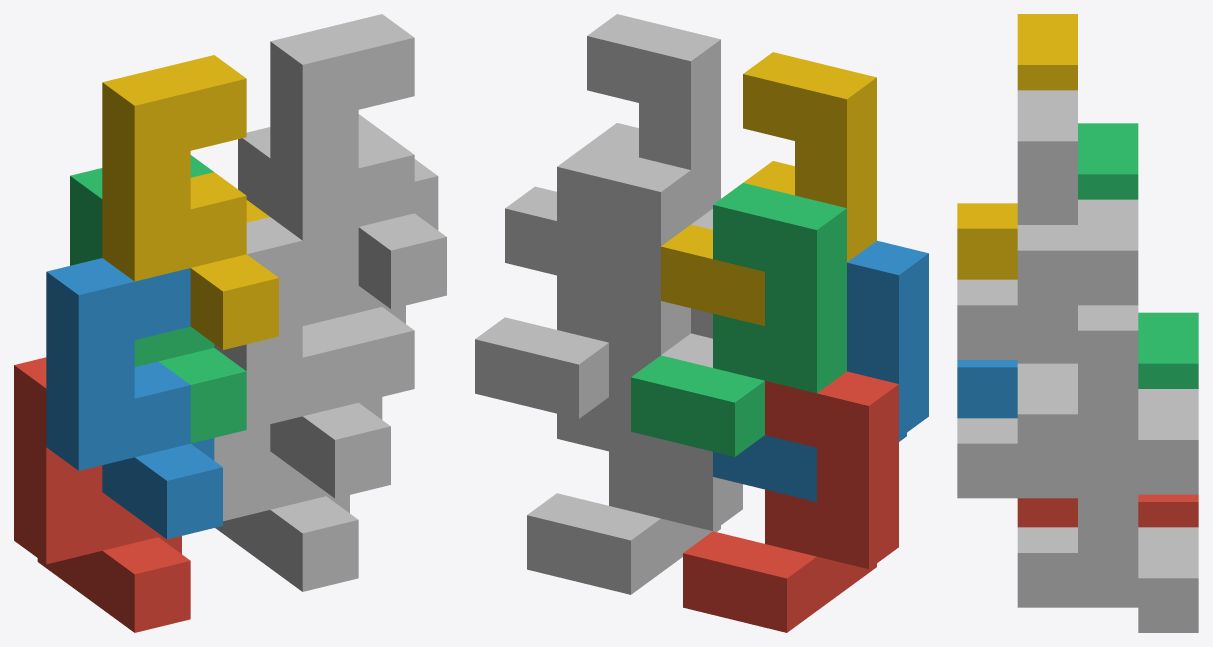
Rendered from tiling.obj.
3 renders of one model, left to right at view 1: azimuth 30°, elevation 25°; view 2: azimuth 150°, elevation 25°; view 3: azimuth 270°, elevation 25°, orthographic. The views are drawn at different scales.
Visible parts, largest first — view 1: copy_1_domain_8, copy_1_domain_4, copy_1_domain_2, copy_1_domain_6, copy_1_domain_1, copy_1_domain_5, copy_1_domain_3, copy_1_domain_7; view 2: copy_1_domain_1, copy_1_domain_3, copy_1_domain_7, copy_1_domain_4, copy_1_domain_8, copy_1_domain_5, copy_1_domain_2, copy_1_domain_6; view 3: copy_1_domain_8, copy_1_domain_7, copy_1_domain_5, copy_1_domain_6, copy_1_domain_3, copy_1_domain_4, copy_1_domain_1, copy_1_domain_2.
Boxes of the visible parts, x1,y1,x2,y2 form: copy_1_domain_8: [270, 14, 446, 308]; copy_1_domain_4: [102, 55, 278, 349]; copy_1_domain_2: [46, 258, 222, 539]; copy_1_domain_6: [214, 217, 390, 498]; copy_1_domain_1: [14, 357, 190, 632]; copy_1_domain_5: [214, 424, 358, 591]; copy_1_domain_3: [70, 155, 246, 443]; copy_1_domain_7: [238, 114, 414, 402]; copy_1_domain_1: [683, 371, 898, 632]; copy_1_domain_3: [631, 183, 846, 456]; copy_1_domain_7: [475, 145, 690, 418]; copy_1_domain_4: [661, 52, 876, 326]; copy_1_domain_8: [505, 14, 720, 287]; copy_1_domain_5: [527, 333, 742, 594]; copy_1_domain_2: [713, 240, 928, 501]; copy_1_domain_6: [557, 209, 712, 463]; copy_1_domain_8: [957, 90, 1138, 385]; copy_1_domain_7: [1017, 199, 1198, 494]; copy_1_domain_5: [1017, 523, 1198, 632]; copy_1_domain_6: [957, 360, 1138, 523]; copy_1_domain_3: [1078, 123, 1198, 388]; copy_1_domain_4: [957, 14, 1077, 279]; copy_1_domain_1: [1017, 494, 1198, 527]; copy_1_domain_2: [957, 360, 1017, 418].
Bounding box in the file's own units: 7 × 9 × 4.
